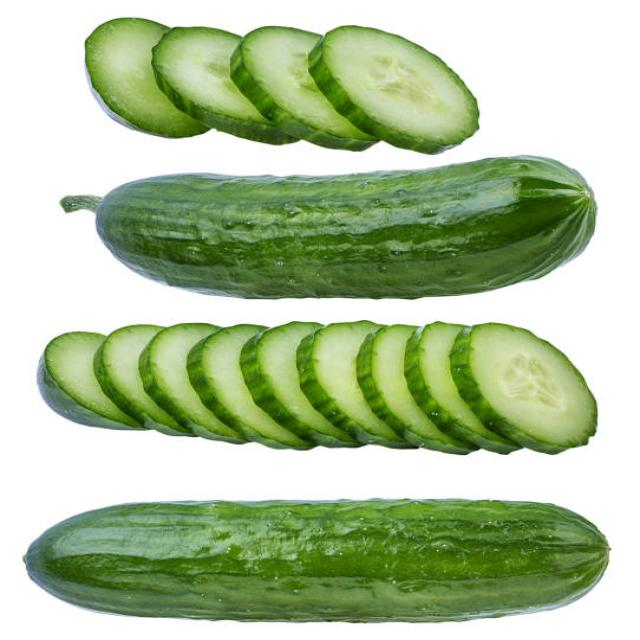cucumber: (21, 498, 611, 624), (95, 152, 596, 299)
